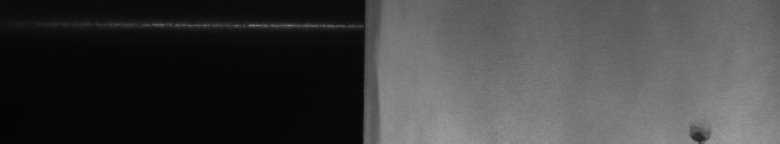fi: (684, 120, 716, 136)
